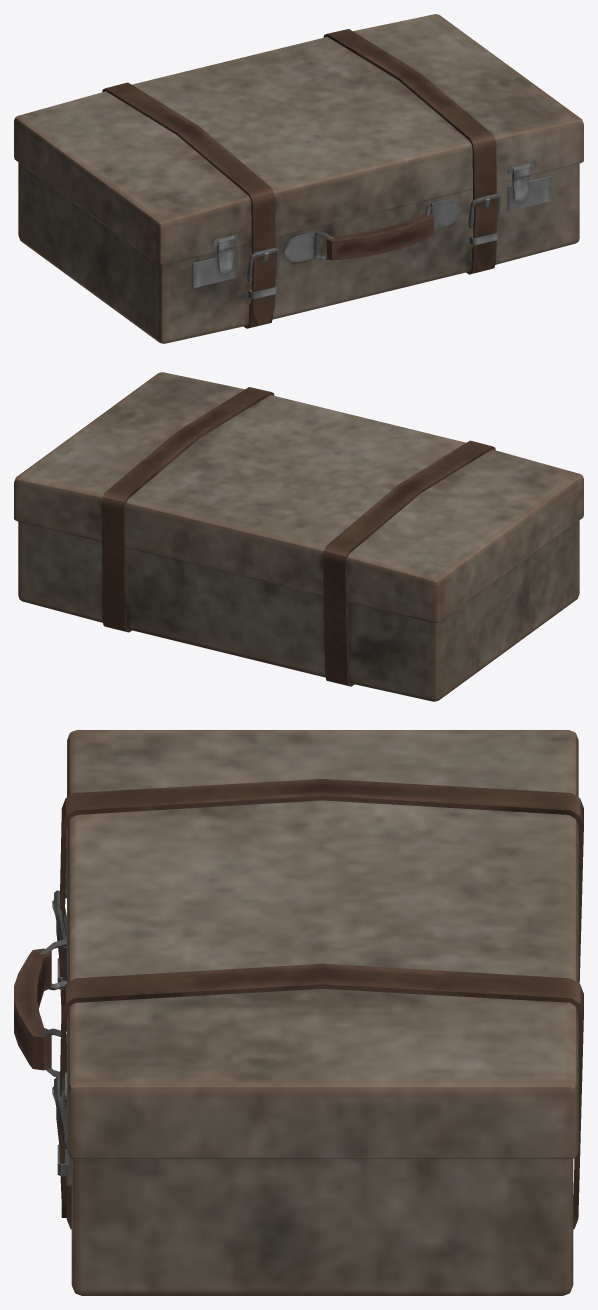
The model's file is SM_Luggage_B.fbx.
3 views of the same model, one above another, from view 1: azimuth 30°, elevation 25°; view 2: azimuth 150°, elevation 25°; view 3: azimuth 270°, elevation 25° (orthographic). The views are drawn at different scales.
Parts seen in each view (by area): view 1: SM_Luggage_B; view 2: SM_Luggage_B; view 3: SM_Luggage_B.
Boxes of the visible parts, left/top/right/bottom form: SM_Luggage_B: left=14, top=14, right=583, bottom=343; SM_Luggage_B: left=14, top=372, right=583, bottom=701; SM_Luggage_B: left=14, top=730, right=583, bottom=1295.
Size of the model in its own units: 0.6962 by 0.4664 by 0.2343.
